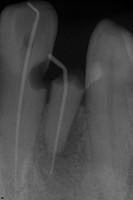Furcation Involvement: (38, 112, 88, 196)
